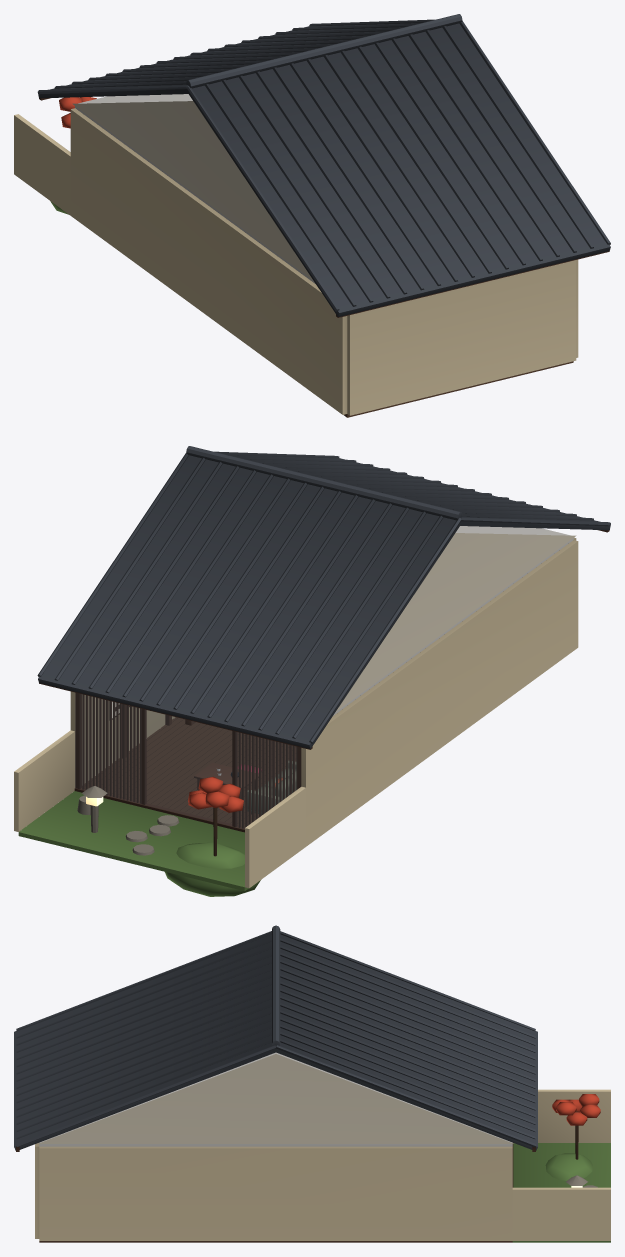
The model's file is ky-maisonette.glb.
The picture shows the model from 3 angles, top to bottom: view 1: azimuth 30°, elevation 25°; view 2: azimuth 150°, elevation 25°; view 3: azimuth 270°, elevation 25°; orthographic projection. The views are drawn at different scales.
Visible parts, largest first — view 1: Room_rooftile, Room_earth, Room_plaster, Room_ceiling; view 2: Room_rooftile, Room_earth, Room_glass, Room_hinokiDark, Room_moss, Room_plaster, Room_floor, Room_rock, Room_maple, Room_ceiling, Room_woodDark, Room_fabric; view 3: Room_rooftile, Room_earth, Room_plaster, Room_moss, Room_ceiling, Room_maple, Room_floor.
Boxes of the visible parts, box(x1,y1,x2,y2) form: Room_rooftile: box(37, 14, 610, 317); Room_earth: box(14, 108, 578, 415); Room_plaster: box(72, 101, 312, 279); Room_ceiling: box(75, 94, 315, 283); Room_rooftile: box(37, 446, 610, 748); Room_earth: box(14, 537, 578, 888); Room_glass: box(80, 694, 296, 828); Room_hinokiDark: box(39, 530, 609, 832); Room_moss: box(18, 791, 260, 896); Room_plaster: box(336, 533, 576, 711); Room_floor: box(82, 717, 296, 826); Room_rock: box(77, 786, 179, 855); Room_maple: box(188, 776, 243, 812); Room_ceiling: box(333, 526, 573, 715); Room_woodDark: box(85, 701, 295, 823); Room_fabric: box(247, 760, 296, 814); Room_rooftile: box(14, 925, 537, 1150); Room_earth: box(35, 1089, 610, 1240); Room_plaster: box(38, 1054, 513, 1143); Room_moss: box(512, 1143, 610, 1242); Room_ceiling: box(39, 1052, 512, 1146); Room_maple: box(552, 1094, 600, 1125); Room_floor: box(39, 1241, 512, 1242).
Size of the model in its own units: 7.3 by 6.96 by 15.77.
